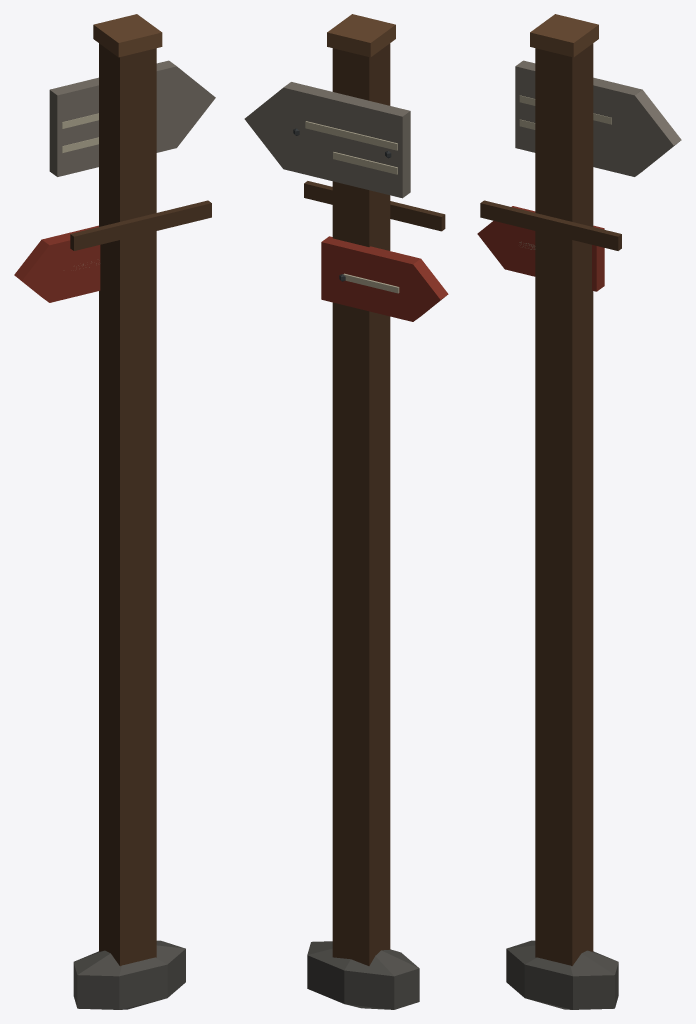
Rendered from prop_road_sign.glb.
The picture shows the model from 3 angles, left to right: view 1: azimuth 30°, elevation 25°; view 2: azimuth 150°, elevation 25°; view 3: azimuth 330°, elevation 25°; orthographic projection.
Parts seen in each view (by area): view 1: Sign; view 2: Sign; view 3: Sign.
Boxes of the visible parts, box(x1,y1,x2,y2) form: Sign: box(14, 14, 215, 1009); Sign: box(244, 14, 448, 1009); Sign: box(477, 14, 681, 1009).
Size of the model in its own units: 0.425 by 2.04 by 0.1357.
